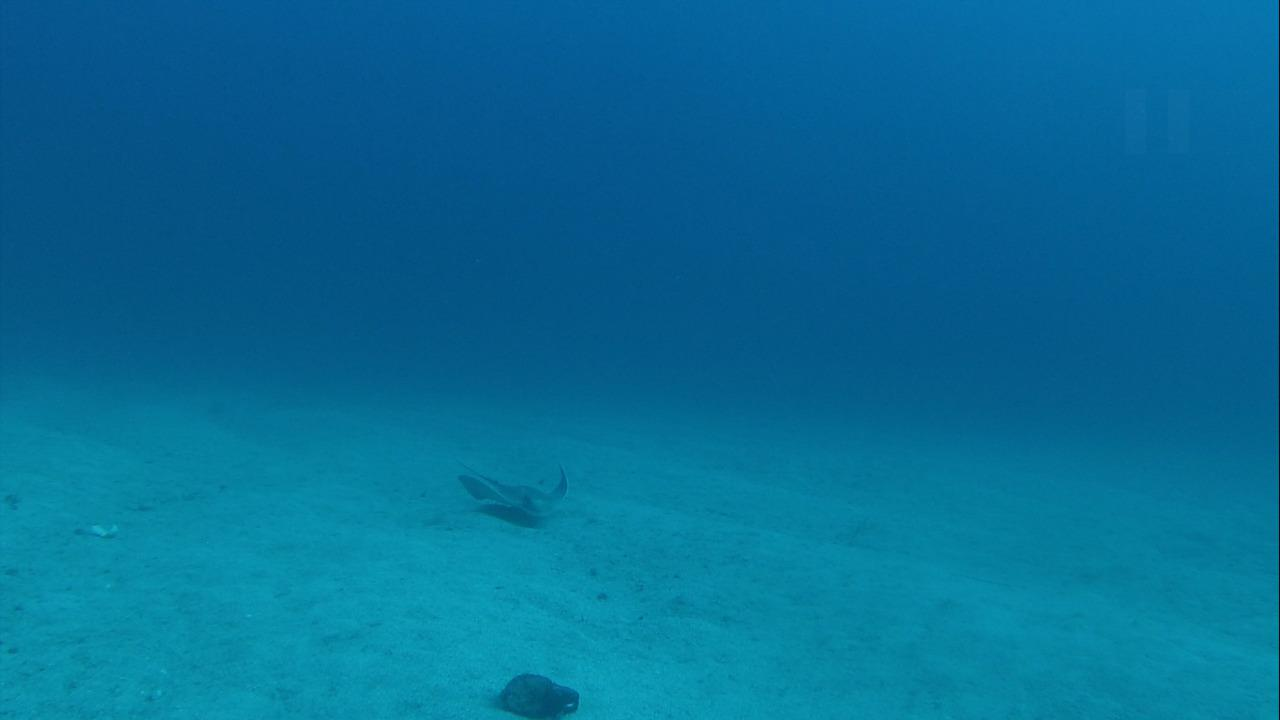myliobatis: (431, 456, 570, 524)
